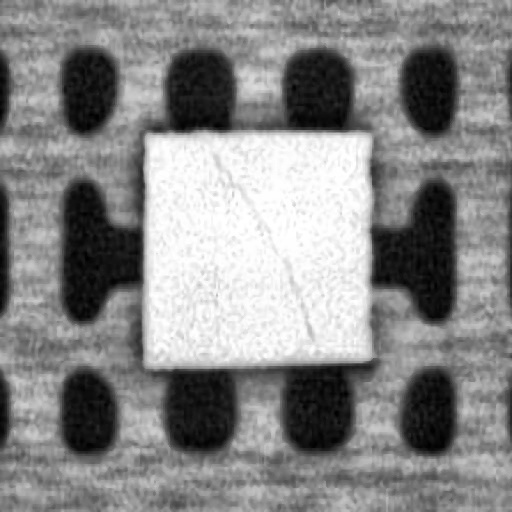DIE_CRACK: (209, 151, 315, 342)
